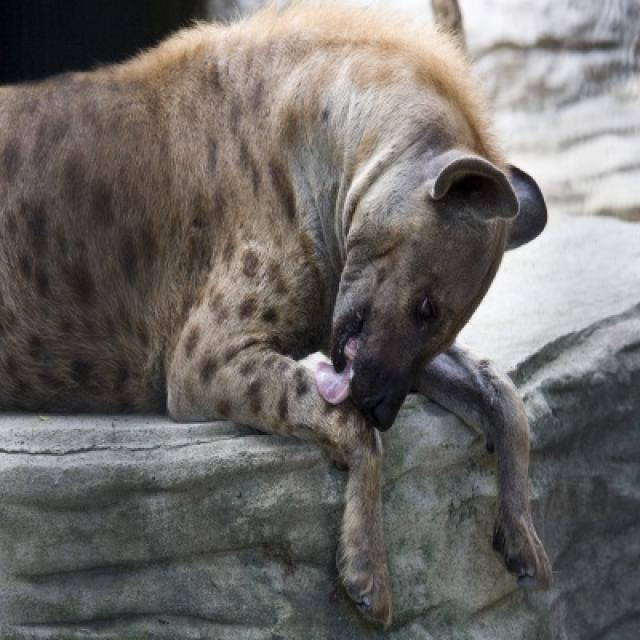hyena: (0, 0, 552, 632)
